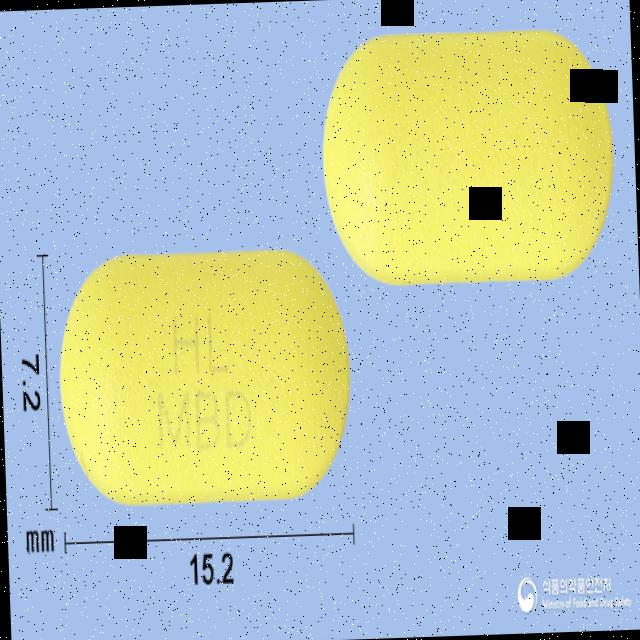Mabid -500mg: (56, 249, 354, 509)
